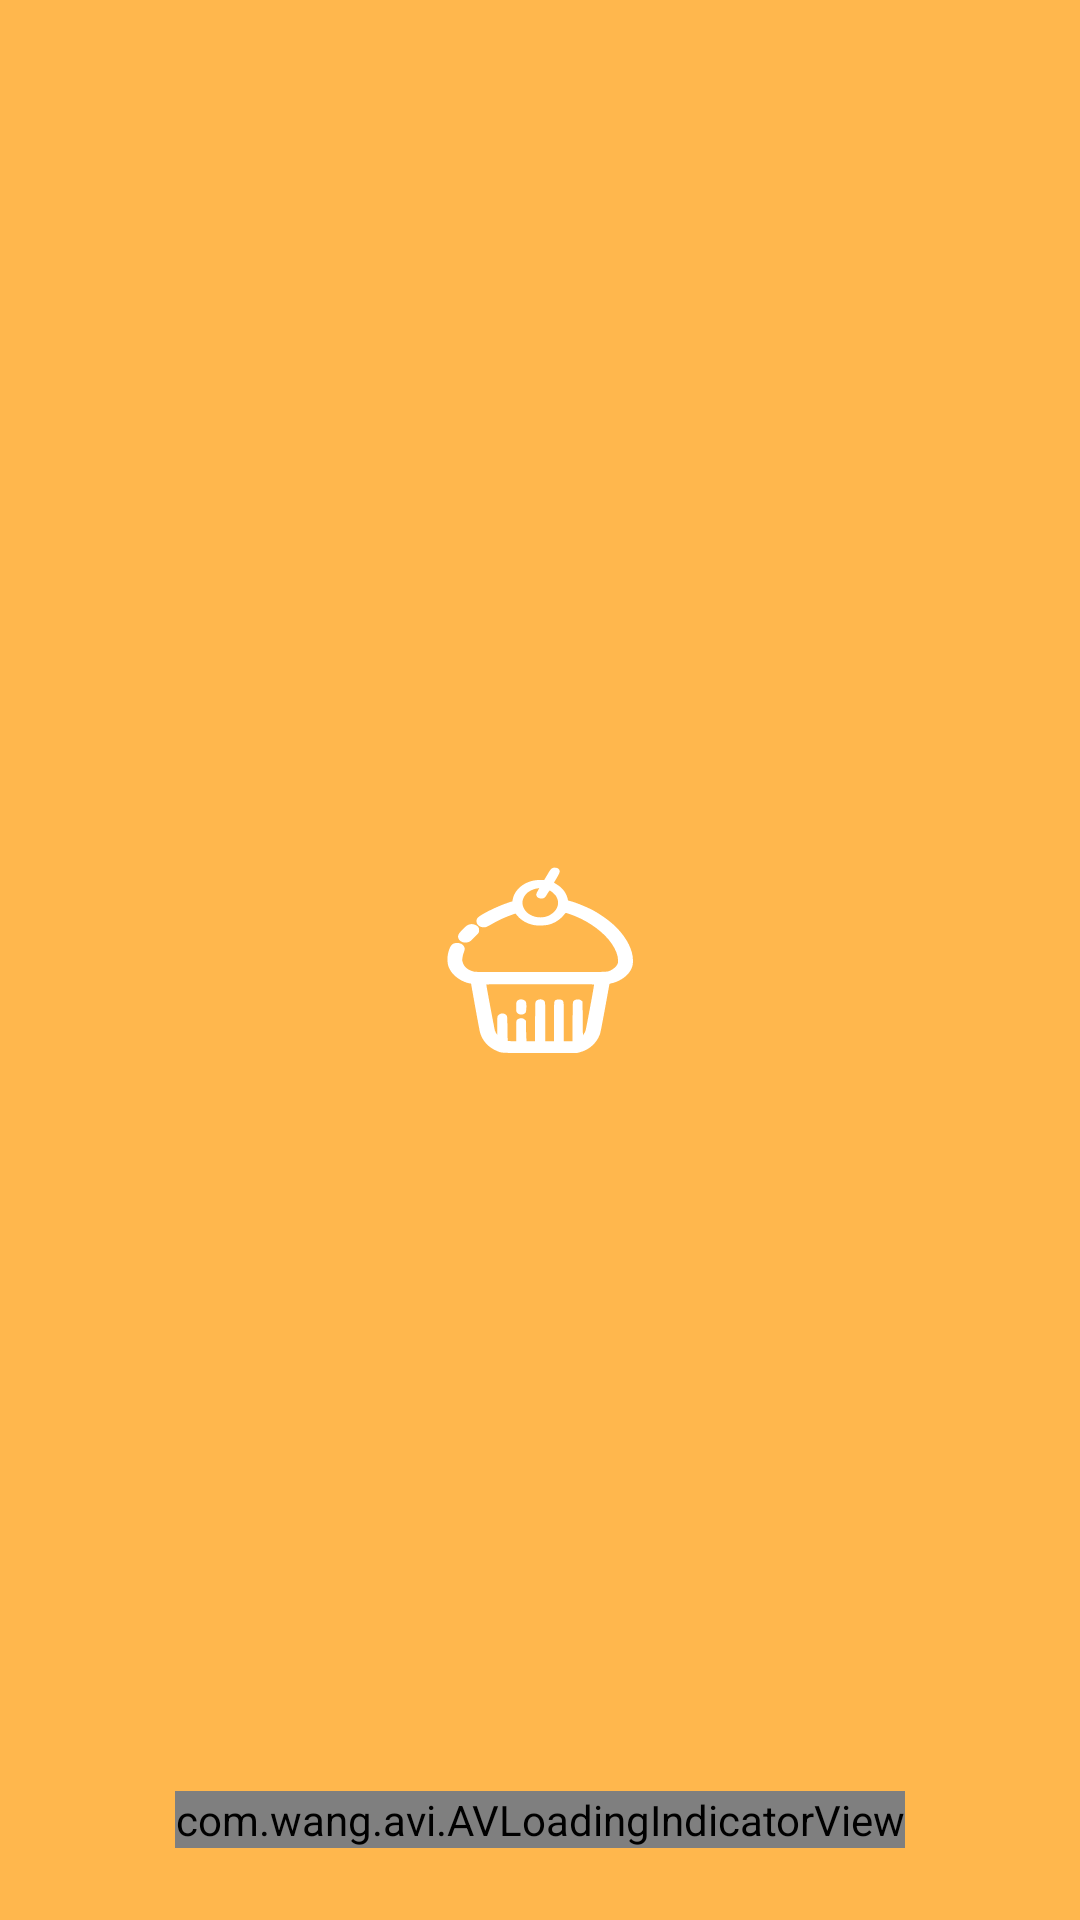

Point at icon controls on the screen. Image size 1080 x 1920, points as (x,y).
cupcake: (540,960)
